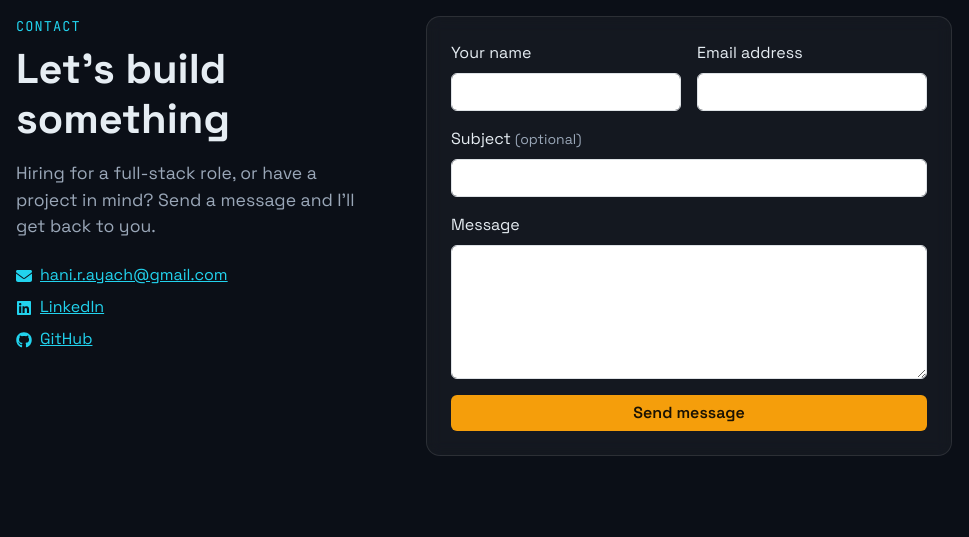
on network error shows an error with a direct email fallback
Step 1. Type "Recruiter" into the field labelled "Your name" → (566, 92), box [451,73,681,111]
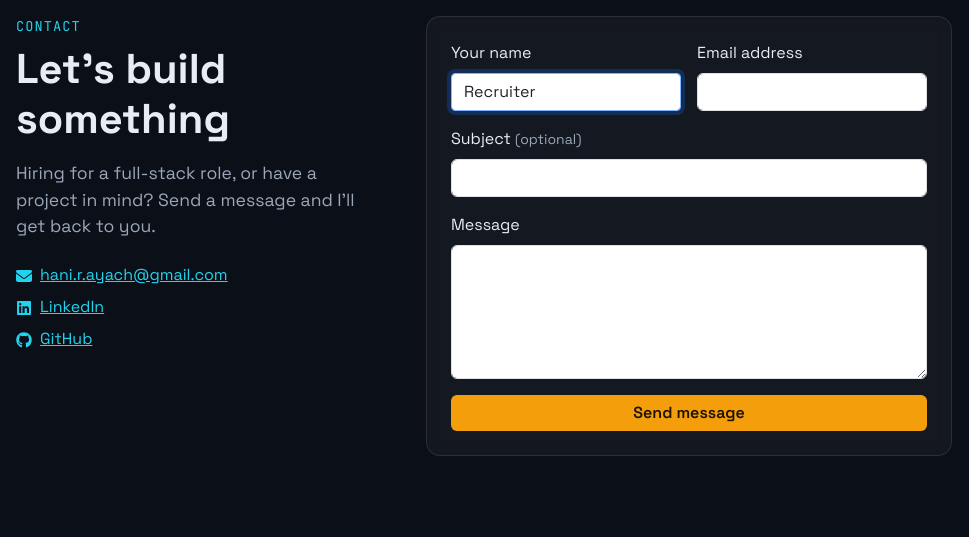
Step 2. Type "r@company.com" into the field labelled "Email address" → (812, 92), box [697,73,927,111]
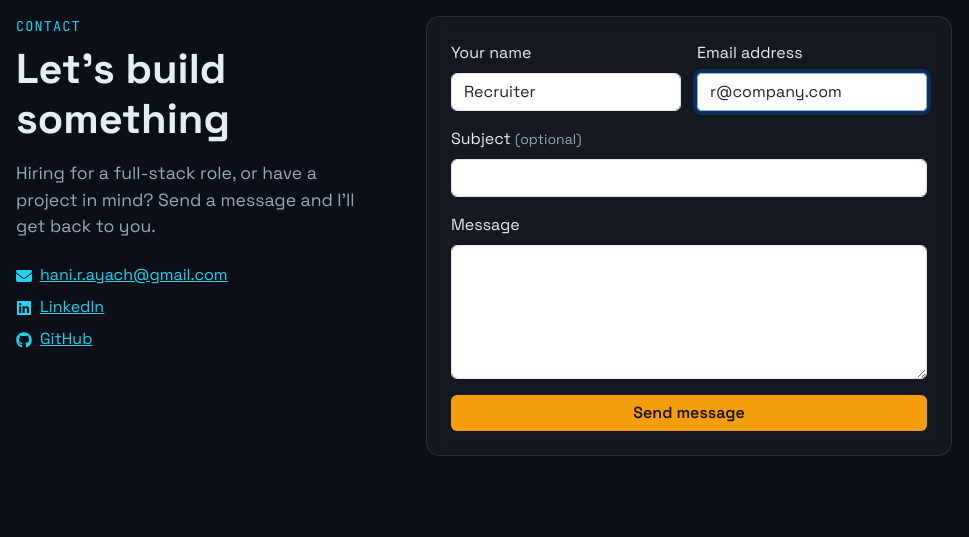
Step 3. Type "Let's talk" into the text box labelled "Message" → (689, 312), box [451,245,927,379]
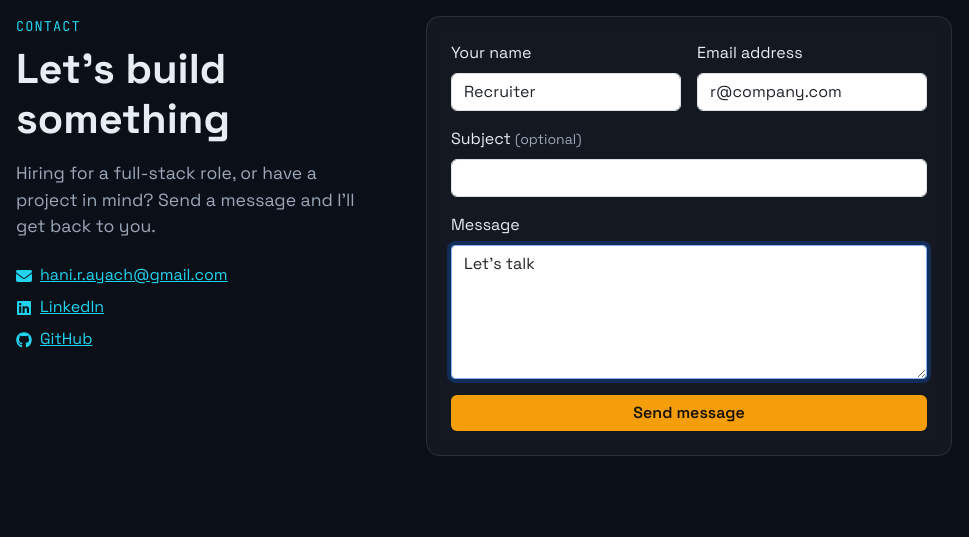
Step 4. Click the button "Send message" → (689, 413), box [451,395,927,431]
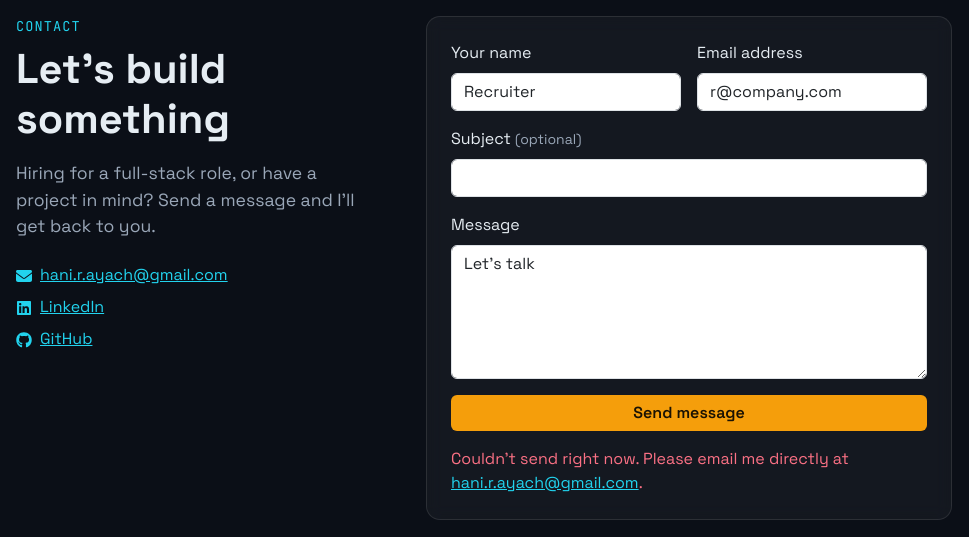
expect the message shows "Couldn't send": met, box [451,448,849,469]
